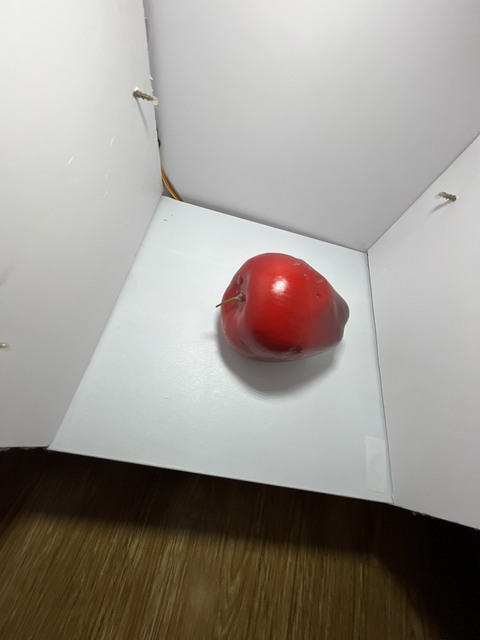Tao: (216, 249, 351, 367)
